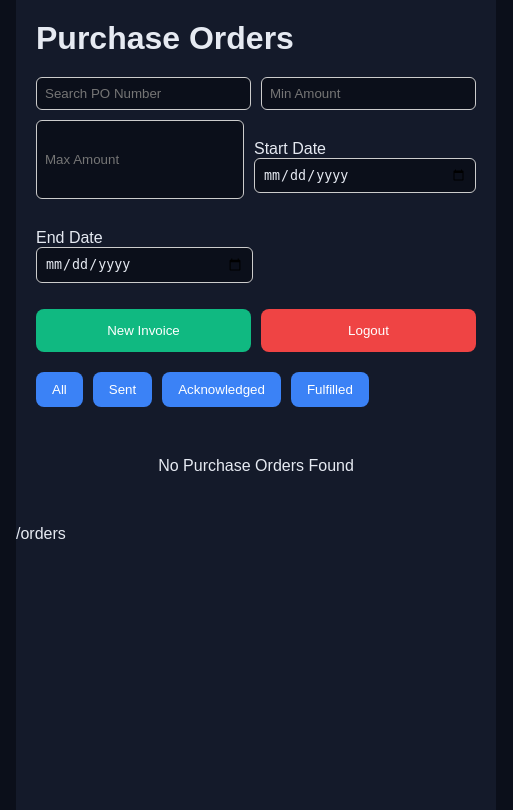
Scenario: Orders › navigates to the new invoice page
Click the button "New Invoice" at (144, 330), box [36,309,251,352]
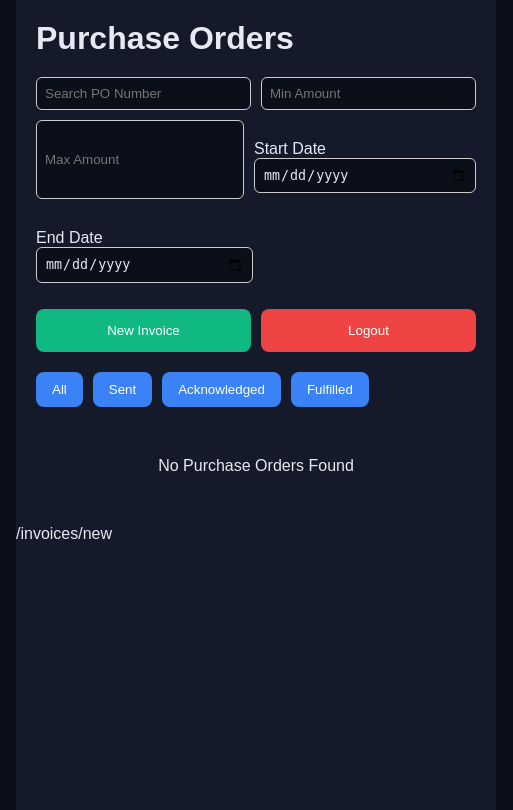
Result: the text with test id "location" reads "/invoices/new" at [16,525,112,542]
